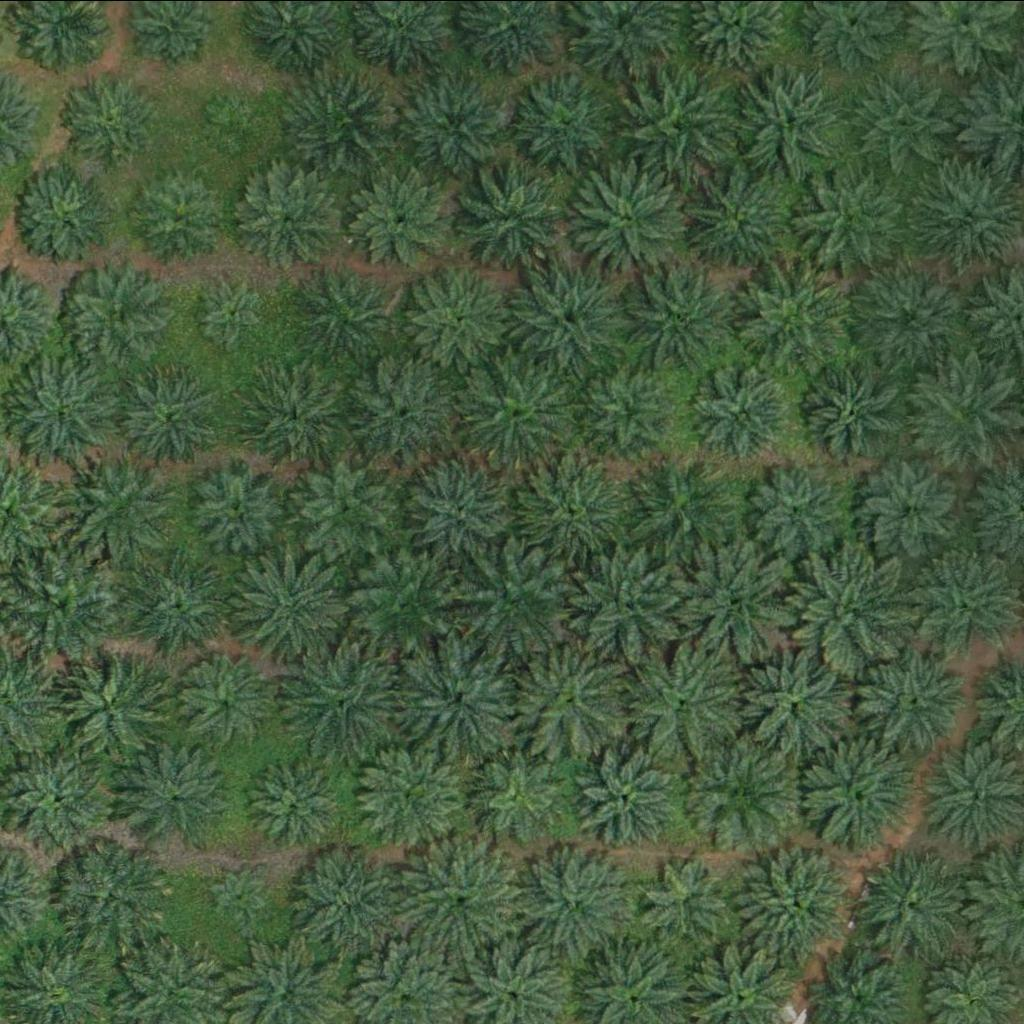Kelapa_Sawit: (344, 550, 458, 663), (280, 644, 394, 757), (124, 738, 238, 851), (454, 543, 568, 656), (620, 258, 734, 371), (796, 160, 910, 273), (851, 67, 965, 180), (9, 352, 122, 465), (53, 649, 166, 762), (402, 644, 515, 757), (5, 740, 118, 853), (740, 844, 853, 957), (799, 734, 912, 847), (515, 643, 628, 756), (574, 548, 687, 661), (680, 546, 793, 659), (795, 552, 908, 665), (453, 354, 566, 467), (513, 257, 626, 370), (574, 163, 687, 276), (683, 161, 796, 274), (856, 847, 969, 960), (405, 456, 519, 568), (59, 839, 173, 951), (513, 448, 627, 560), (745, 258, 859, 370), (278, 67, 391, 179), (400, 69, 513, 181), (350, 357, 463, 469), (66, 450, 179, 562), (6, 547, 119, 659), (118, 551, 231, 663), (230, 549, 343, 661), (357, 738, 470, 850), (291, 844, 404, 956), (404, 842, 517, 954), (522, 848, 635, 960), (685, 736, 798, 848), (627, 642, 740, 754), (733, 644, 846, 756), (628, 451, 741, 563), (854, 262, 967, 374), (454, 161, 567, 273), (507, 71, 620, 183), (623, 72, 736, 184), (737, 64, 850, 176), (908, 359, 1021, 471), (857, 640, 970, 752), (60, 65, 161, 165), (9, 167, 110, 267), (128, 163, 229, 263), (236, 171, 337, 271), (347, 171, 448, 271), (66, 266, 167, 366), (292, 264, 393, 364), (408, 266, 509, 366), (115, 366, 216, 466), (248, 369, 349, 469), (192, 456, 293, 556), (295, 456, 396, 556), (640, 849, 741, 949), (462, 745, 563, 845), (573, 749, 674, 849), (745, 459, 846, 559), (864, 457, 965, 557), (806, 357, 907, 457), (174, 652, 274, 752), (243, 754, 343, 854), (693, 362, 793, 462), (590, 368, 678, 456), (198, 278, 273, 353), (202, 94, 265, 156), (207, 865, 270, 927)
